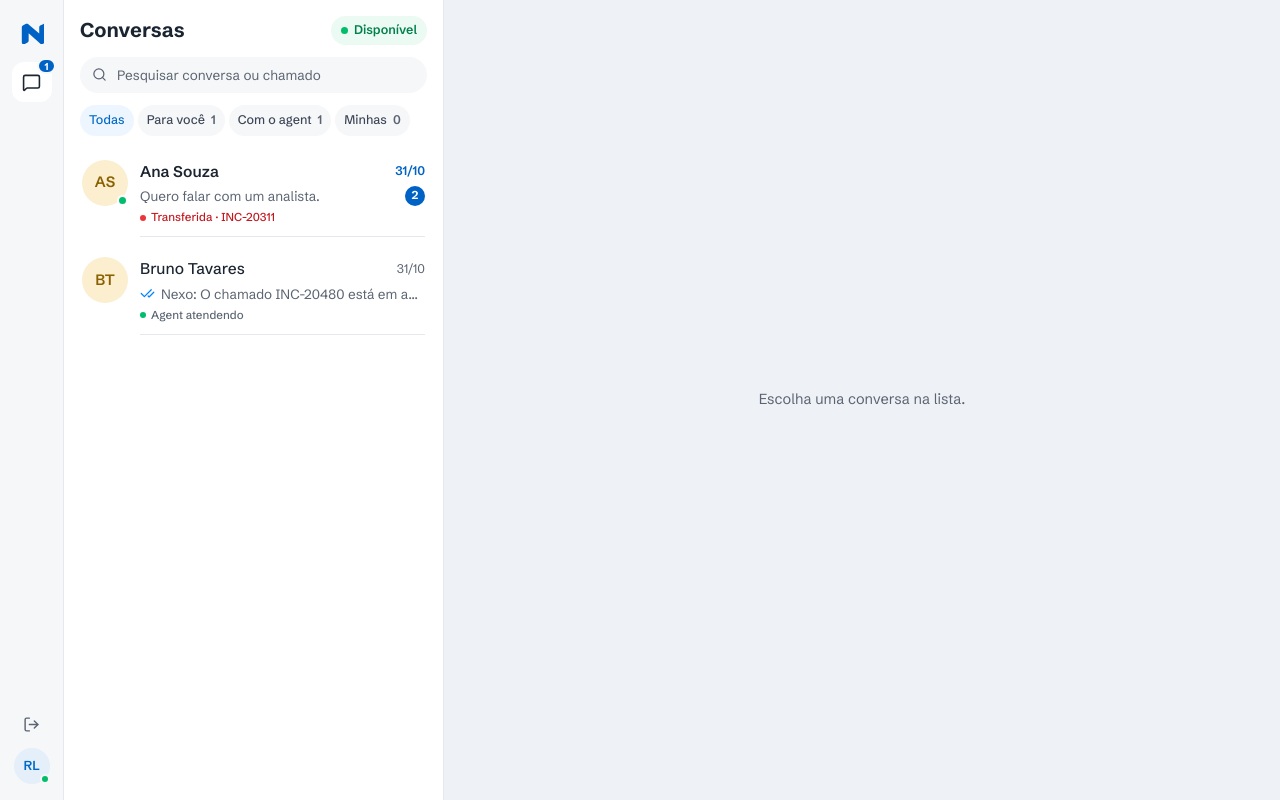
it: console do analista (tela 4) › foco e painel (10.7) › fechar o detalhe da decisão devolve o foco ao botão que o abriu
Click the button "Ana Souza" at point(254, 198), box [72, 150, 435, 247]
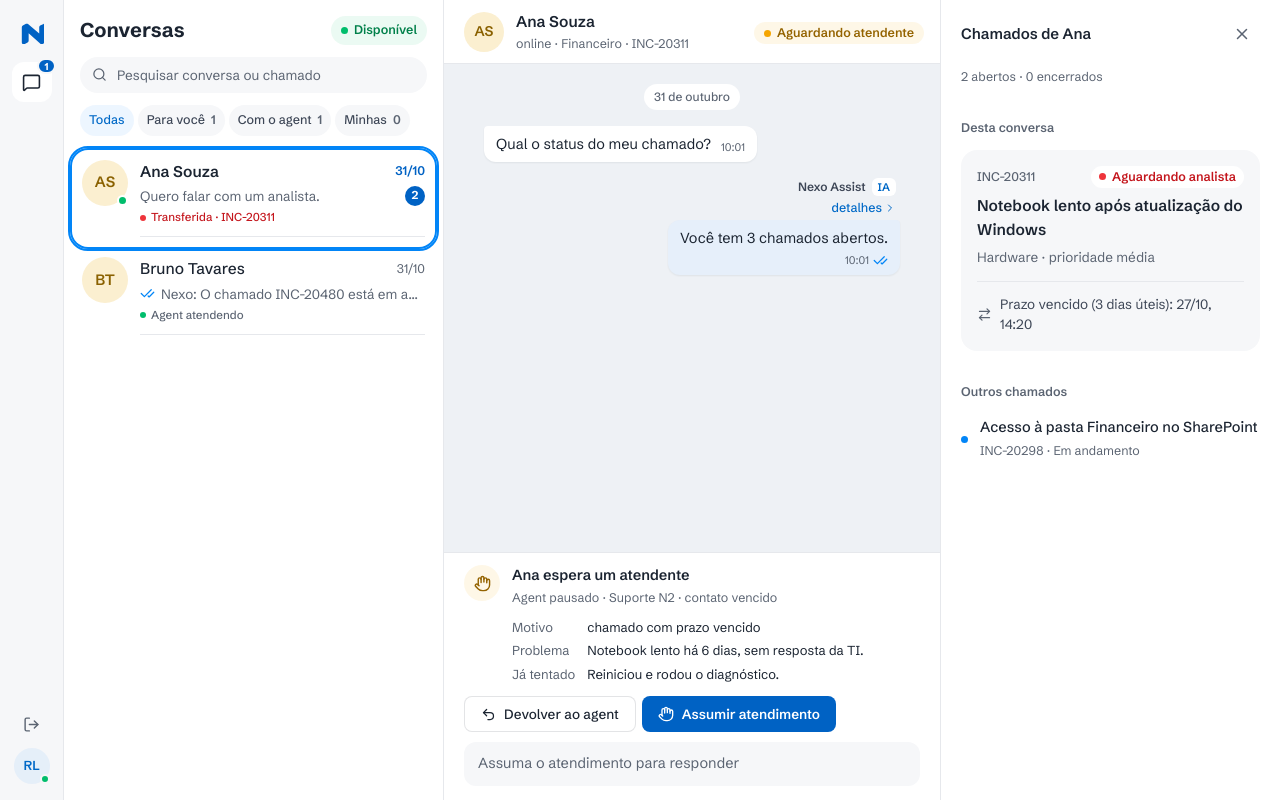
Click the button with aria-label "detalhes da decisão" at point(864, 208), box [828, 196, 900, 220]
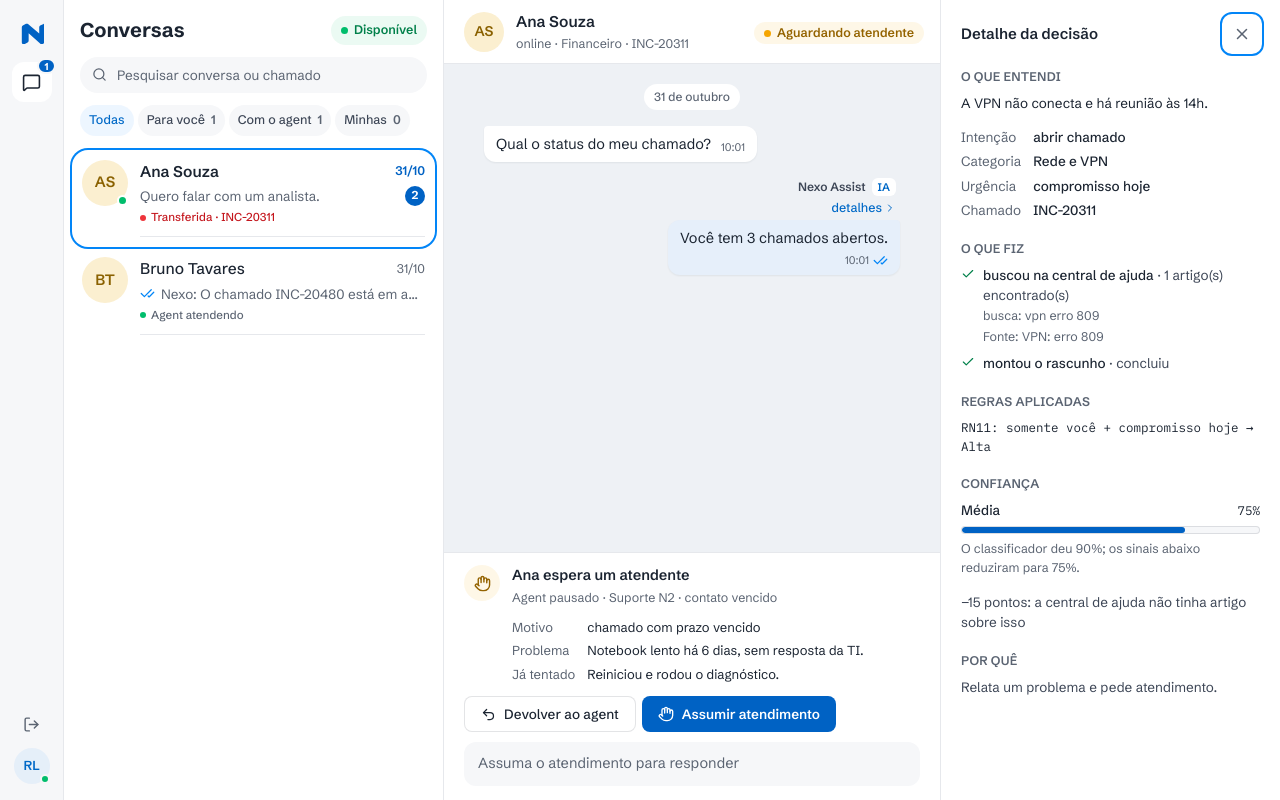
Click the button named "Fechar Detalhe da decisão" at point(1242, 34), box [1224, 16, 1260, 52]
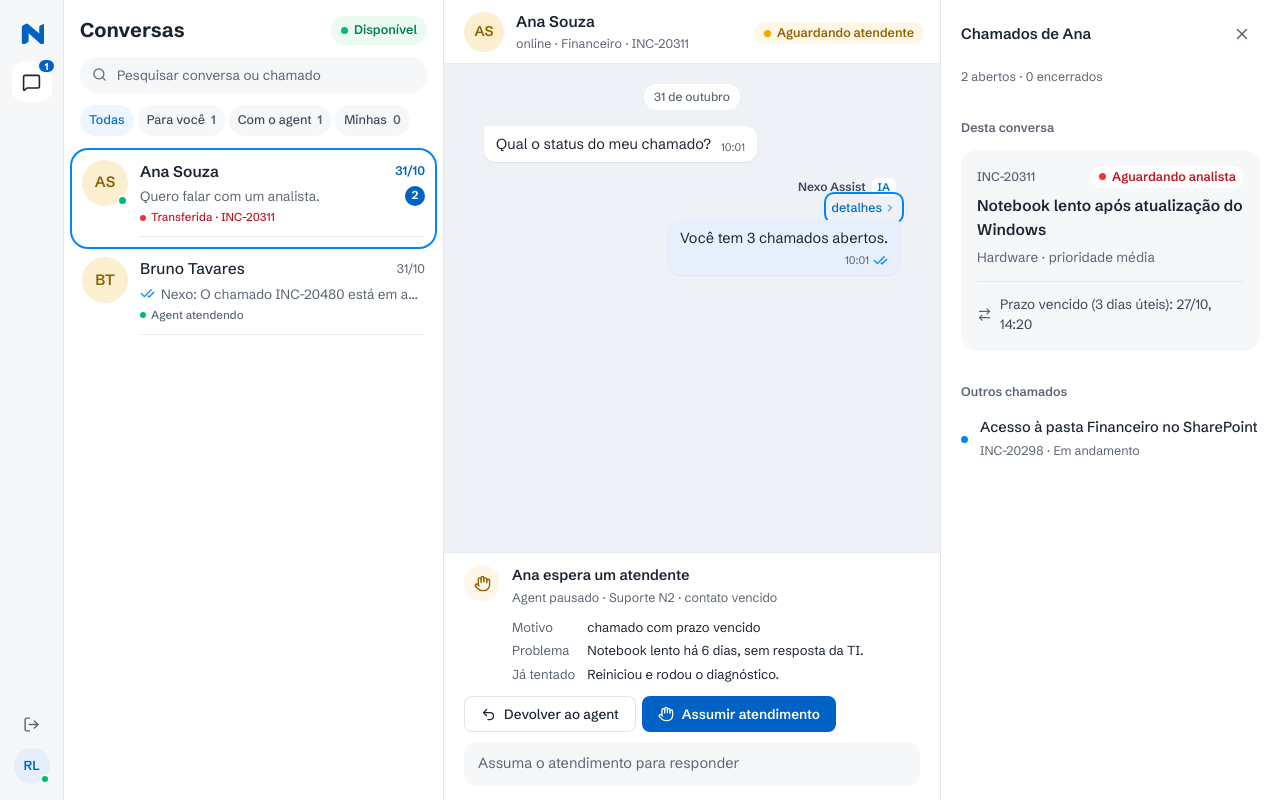
Expected: the element "Chamados de Ana" is shown, [940, 0, 1279, 799]
